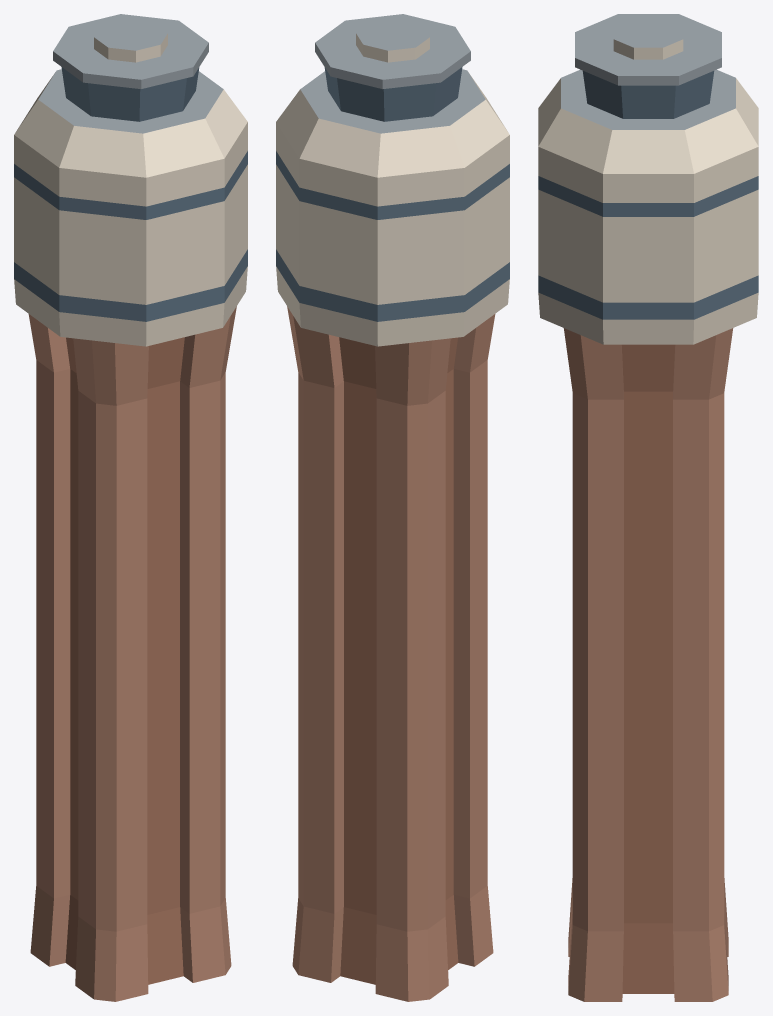
Rendered from lv-las-tower.glb.
The picture shows the model from 3 angles, left to right: view 1: azimuth 30°, elevation 25°; view 2: azimuth 150°, elevation 25°; view 3: azimuth 270°, elevation 25°; orthographic projection.
Parts seen in each view (by area): view 1: Harry Reid International Airport control tower; view 2: Harry Reid International Airport control tower; view 3: Harry Reid International Airport control tower.
Boxes of the visible parts, x1=… form: Harry Reid International Airport control tower: x1=14, y1=14, x2=247, y2=1001; Harry Reid International Airport control tower: x1=276, y1=14, x2=509, y2=1001; Harry Reid International Airport control tower: x1=538, y1=14, x2=758, y2=1001.
Bounding box in the file's own units: 23.28 × 109 × 23.28.
